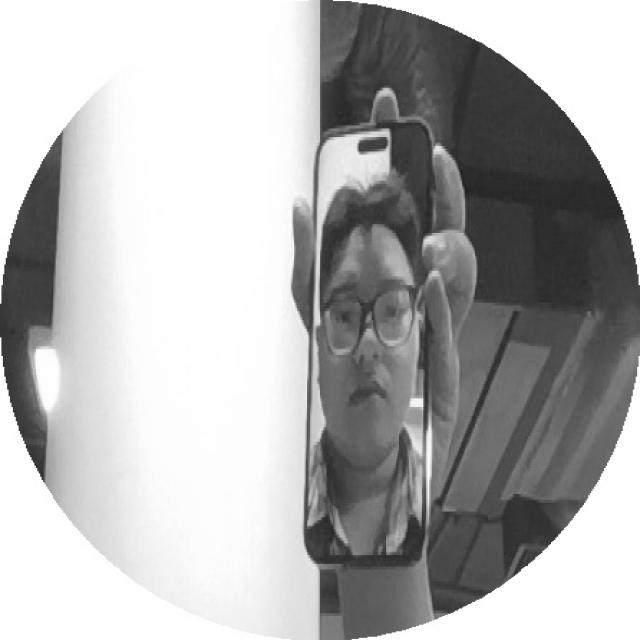fake: (271, 100, 466, 591), (294, 112, 451, 571)
